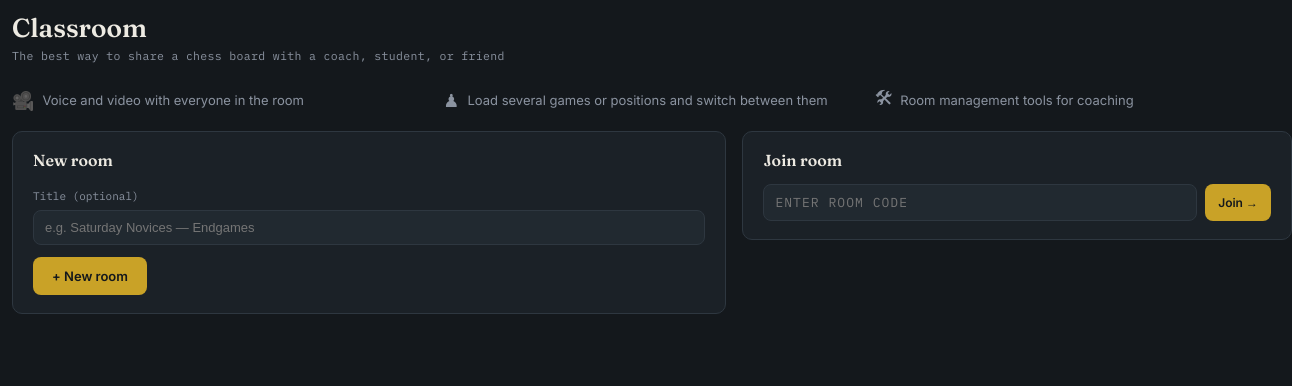
Scenario: ClassroomLobby › shows an error when the code does not match any room
The image size is (1292, 386).
In the field labelled "Enter room code": (980, 202) x1=763 y1=184 x2=1197 y2=221, type "GHOST1"
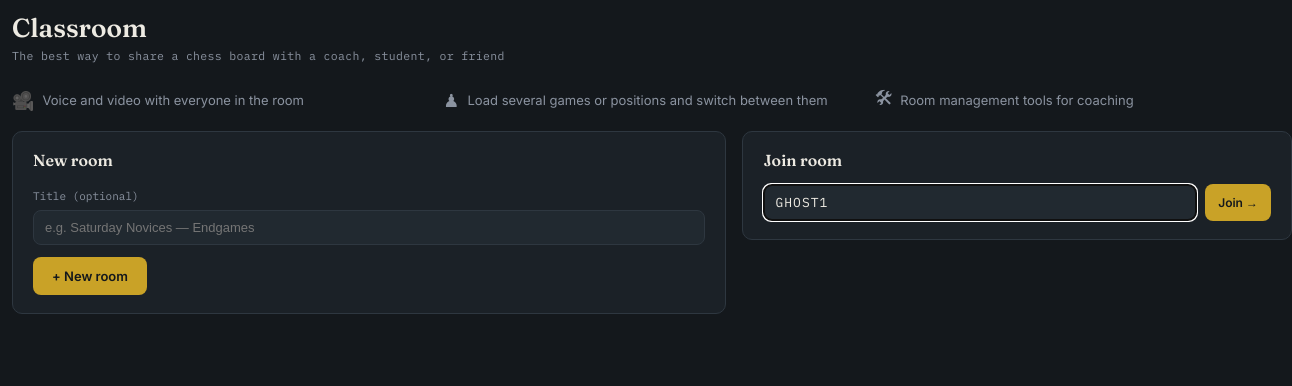
Click the button "Join →": (1238, 202) x1=1205 y1=184 x2=1271 y2=221
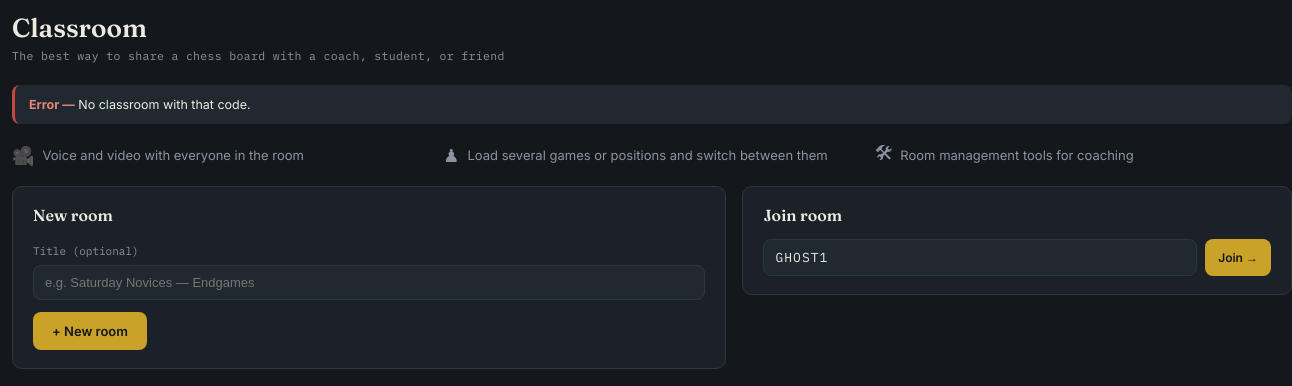
Now the text "Error — No classroom with that code." is shown, box x1=12 y1=85 x2=1291 y2=124
